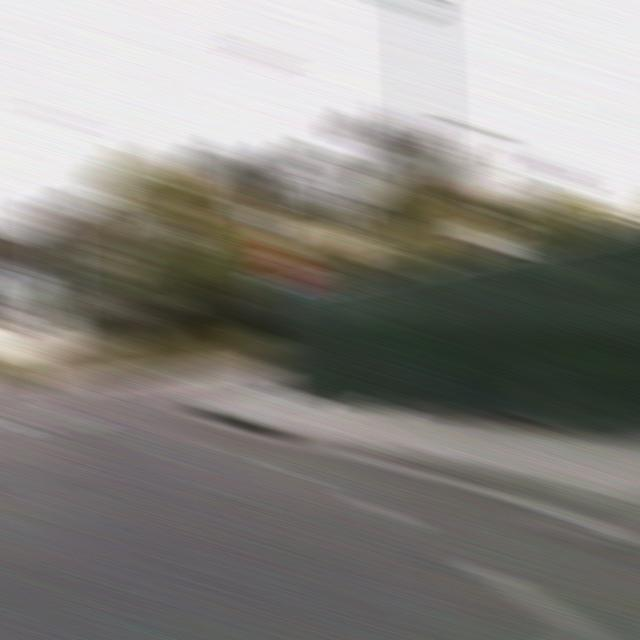stop_sign: (263, 242, 313, 290)
